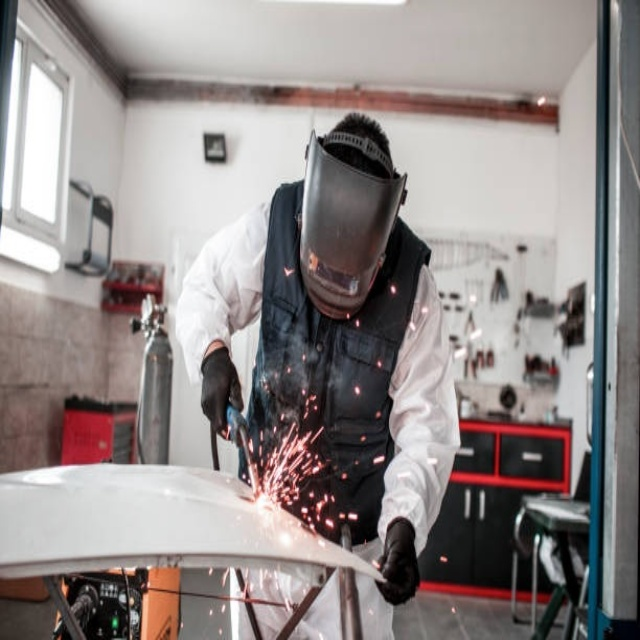Guantes: (200, 345, 243, 440), (375, 519, 420, 606)
